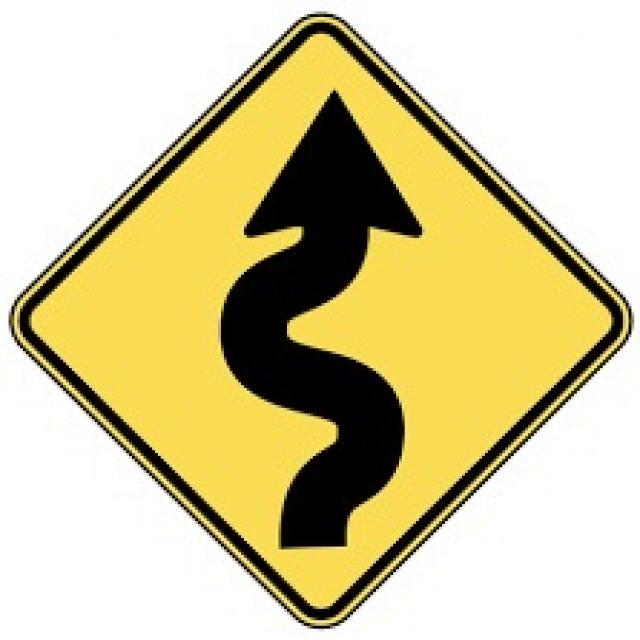left_sharp_curve: (1, 4, 631, 628)
